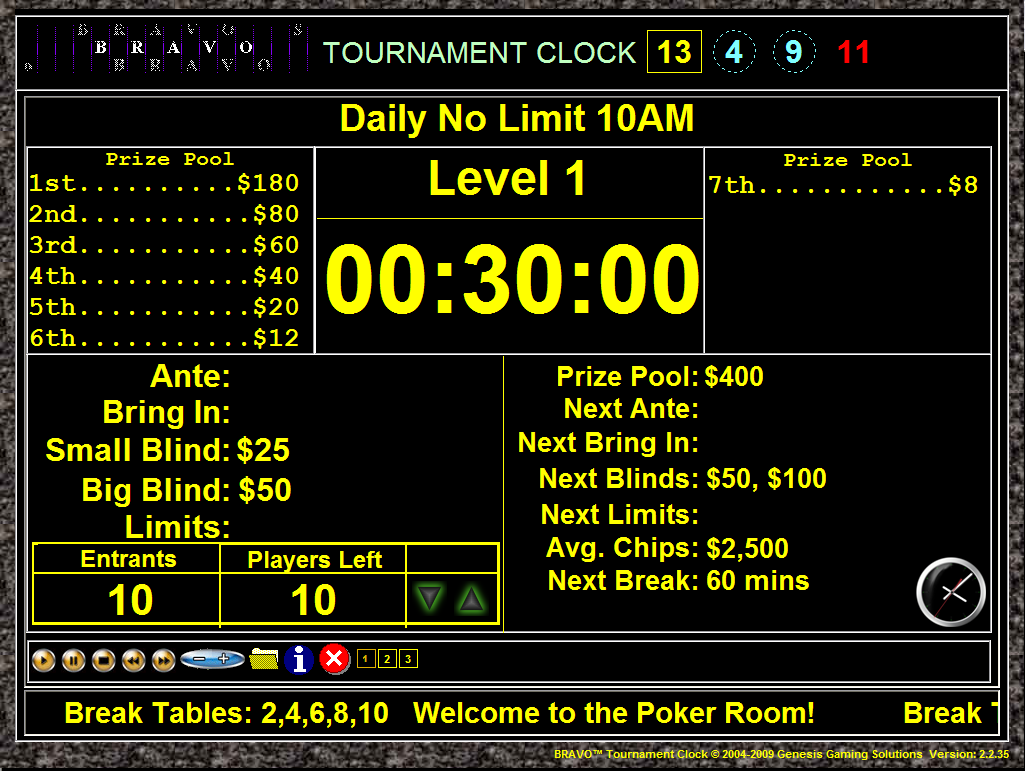PlayersLeft: (217, 541, 406, 627)
Remaining: (701, 148, 994, 355), (30, 148, 316, 357)
TournamentClock: (16, 92, 994, 643)
